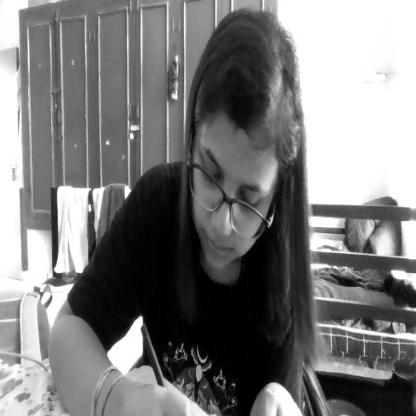Distracted: (190, 12, 299, 292)
